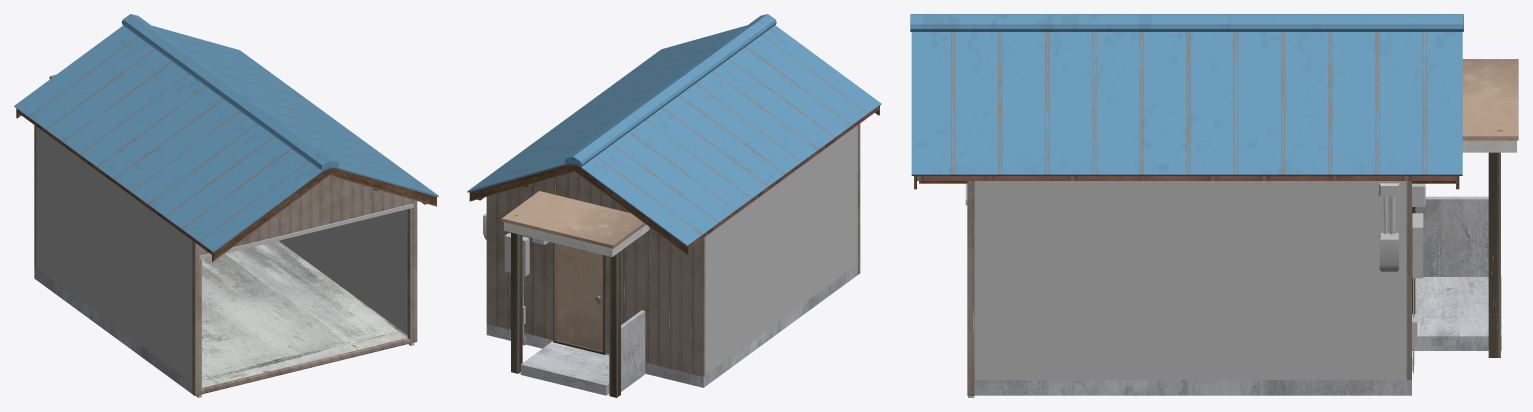
3 views of the same model, side by side, from view 1: azimuth 30°, elevation 25°; view 2: azimuth 150°, elevation 25°; view 3: azimuth 270°, elevation 25° (orthographic). The views are drawn at different scales.
Visible parts, largest first — view 1: ms._h04_1; view 2: ms._h04_1; view 3: ms._h04_1.
Boxes of the visible parts, x1,y1,x2,y2 form: ms._h04_1: (14,14,438,397); ms._h04_1: (467,14,881,397); ms._h04_1: (910,14,1518,397).
Bounding box in the file's own units: 578 × 536 × 945.
